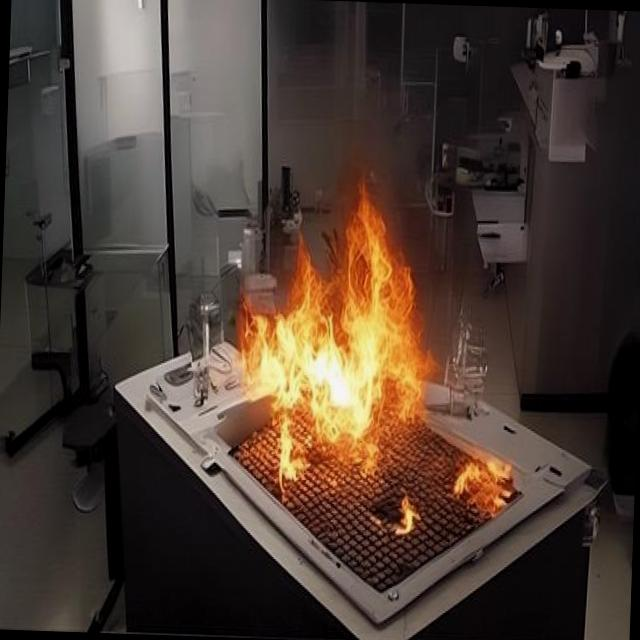fire: (226, 202, 515, 508)
